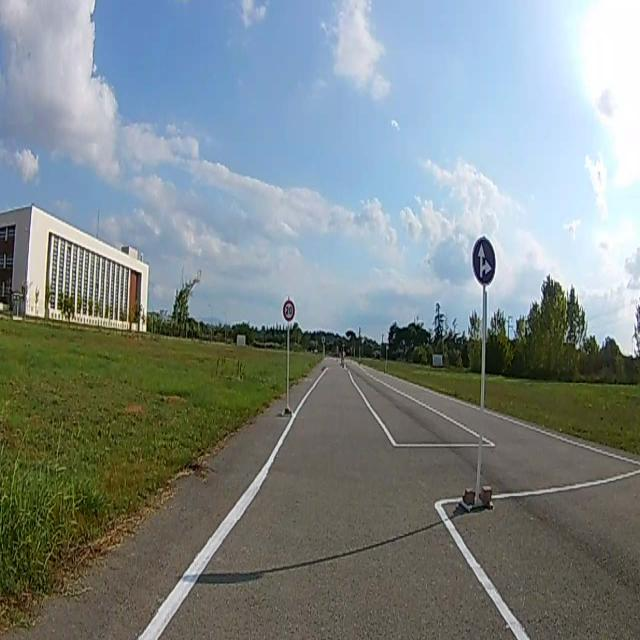20: (282, 301, 294, 319)
ilerisag: (472, 238, 496, 286)
